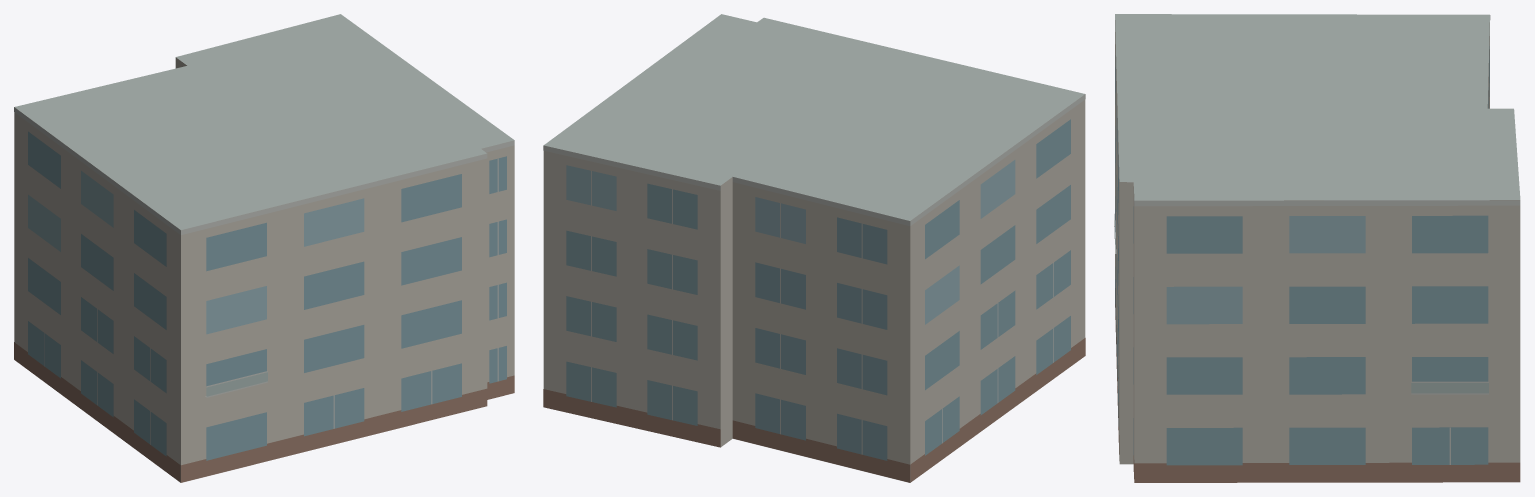
File: survey-upis-32665212.glb
The picture shows the model from 3 angles, left to right: view 1: azimuth 30°, elevation 25°; view 2: azimuth 150°, elevation 25°; view 3: azimuth 270°, elevation 25°; orthographic projection. The views are drawn at different scales.
Visible parts, largest first — view 1: survey-upis-32665212.tmp; view 2: survey-upis-32665212.tmp; view 3: survey-upis-32665212.tmp.
Boxes of the visible parts, bbox=[...] form: survey-upis-32665212.tmp: bbox=[14, 14, 514, 482]; survey-upis-32665212.tmp: bbox=[543, 14, 1085, 482]; survey-upis-32665212.tmp: bbox=[1114, 14, 1520, 482].
Bounding box in the file's own units: 17.32 × 12.2 × 15.92.
